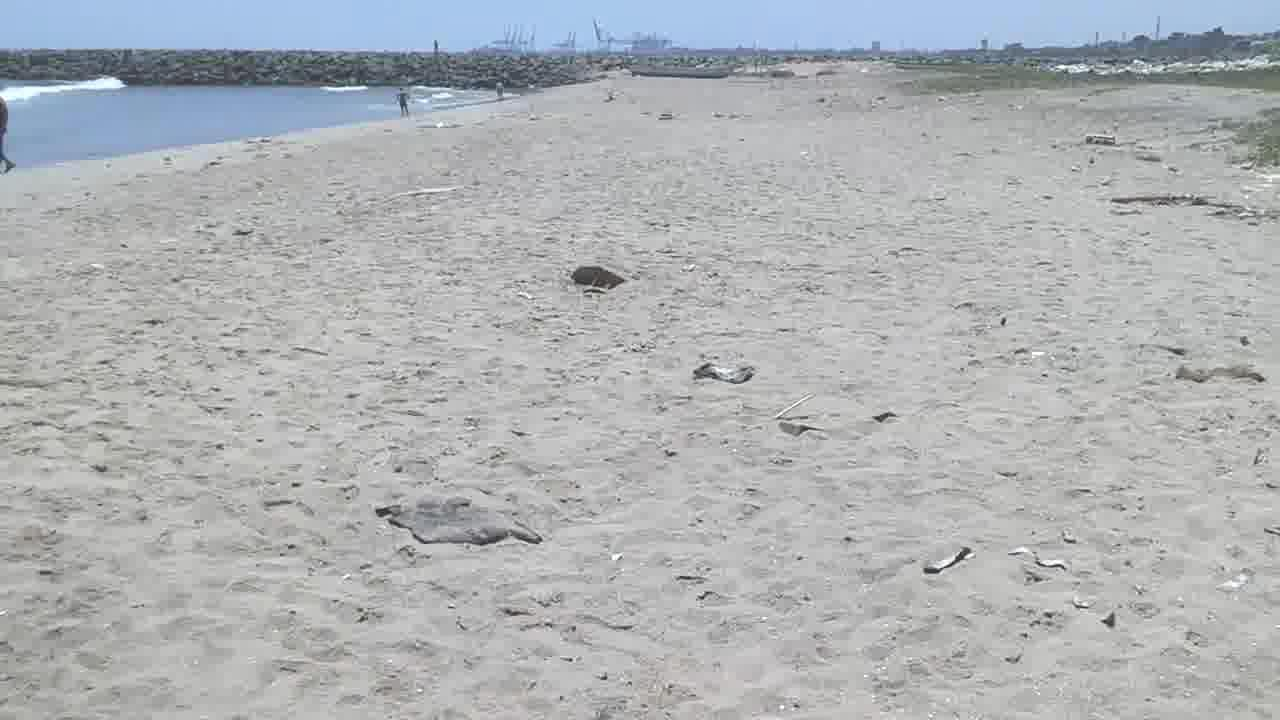obj: (378, 490, 546, 548), (1108, 194, 1268, 228), (1171, 365, 1267, 382), (572, 264, 626, 294), (1006, 544, 1068, 570), (378, 186, 459, 205), (924, 546, 976, 574), (771, 392, 818, 420), (696, 364, 756, 383), (869, 408, 897, 423), (1086, 134, 1116, 145), (428, 119, 450, 133), (658, 111, 684, 121)
sand/background: (0, 0, 1279, 184)
